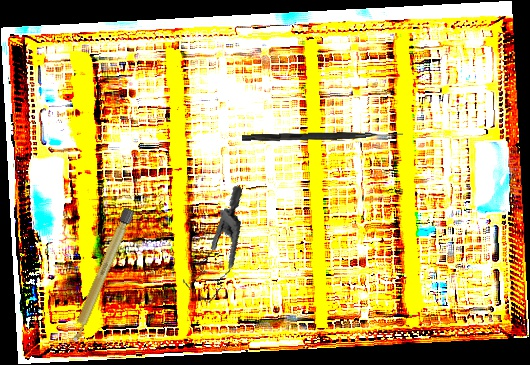Hook Surgical: (241, 129, 404, 143)
Scalpel Handle: (66, 205, 136, 347)
Speculum: (167, 184, 262, 309)
